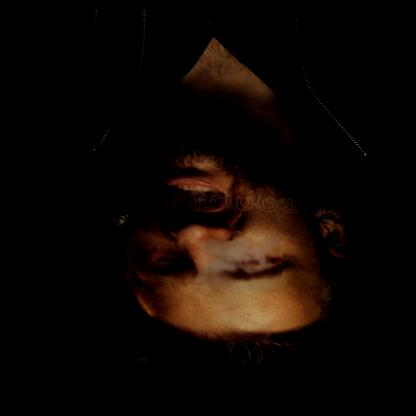smoke: (207, 237, 281, 288)
